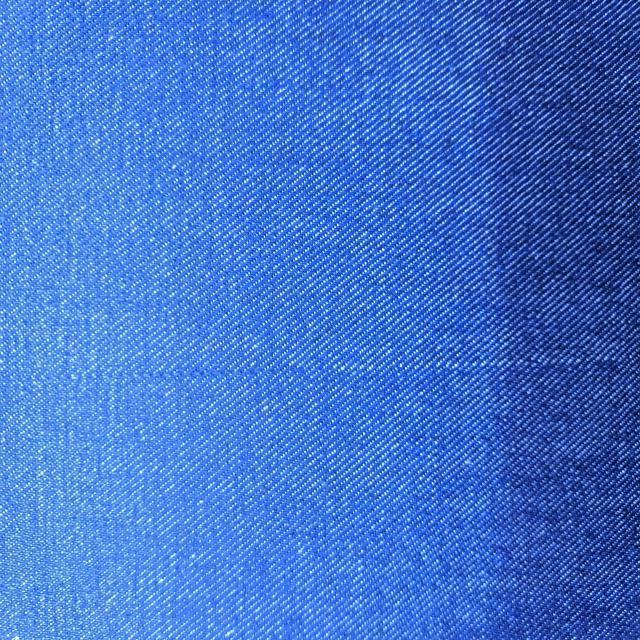Line: (24, 355, 621, 384)
